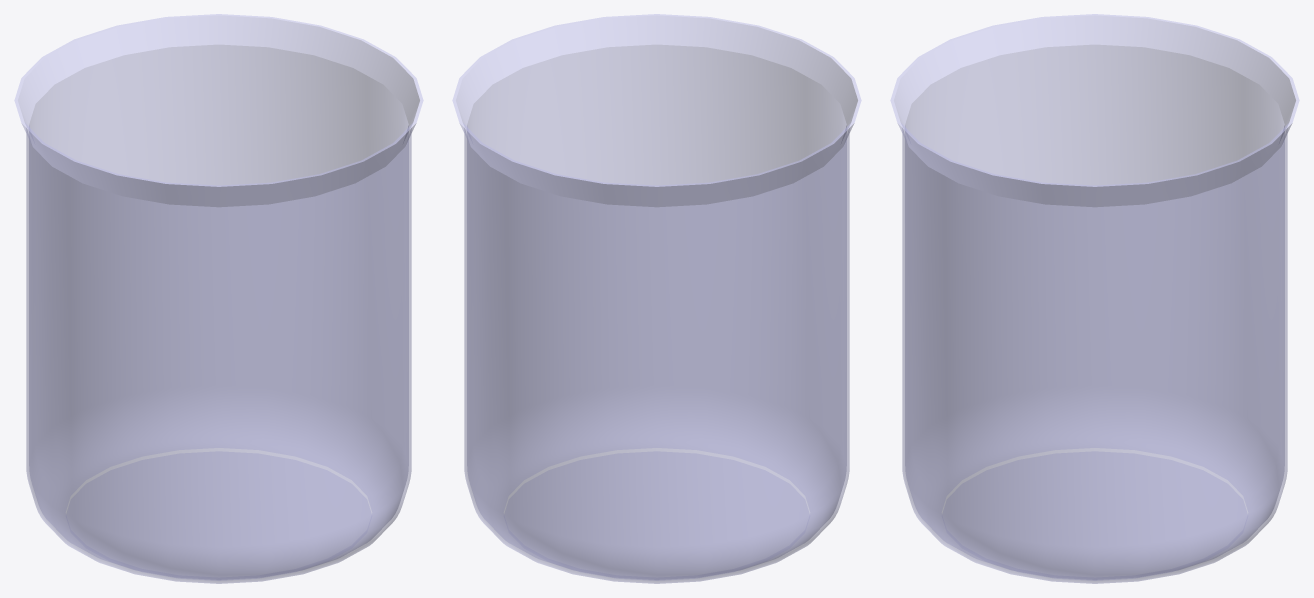
File: beakera.gltf
3 renders of one model, left to right at view 1: azimuth 30°, elevation 25°; view 2: azimuth 150°, elevation 25°; view 3: azimuth 270°, elevation 25°, orthographic.
Size of the model in its own units: 0.1132 by 0.127 by 0.1132.
